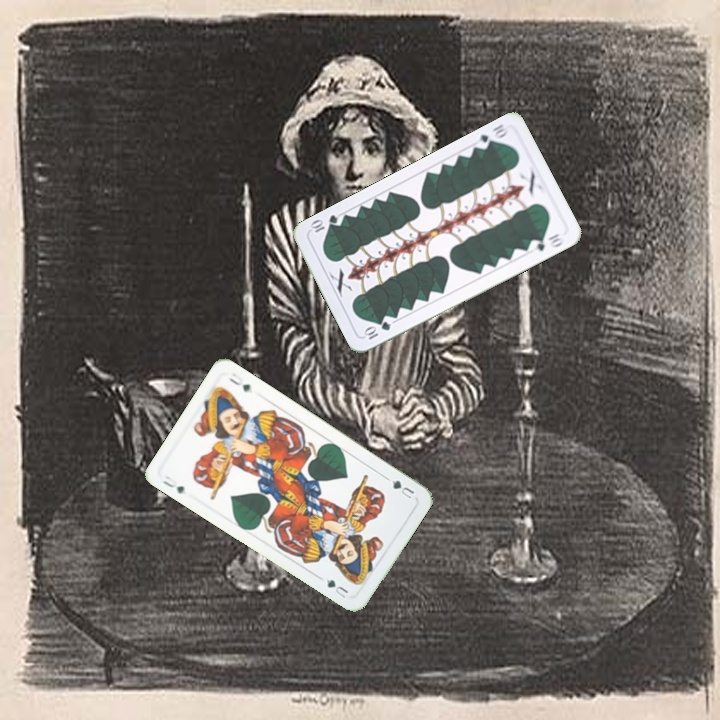G10: (471, 120, 511, 152), (360, 317, 393, 342)
GU: (388, 476, 417, 501), (158, 472, 187, 497)
